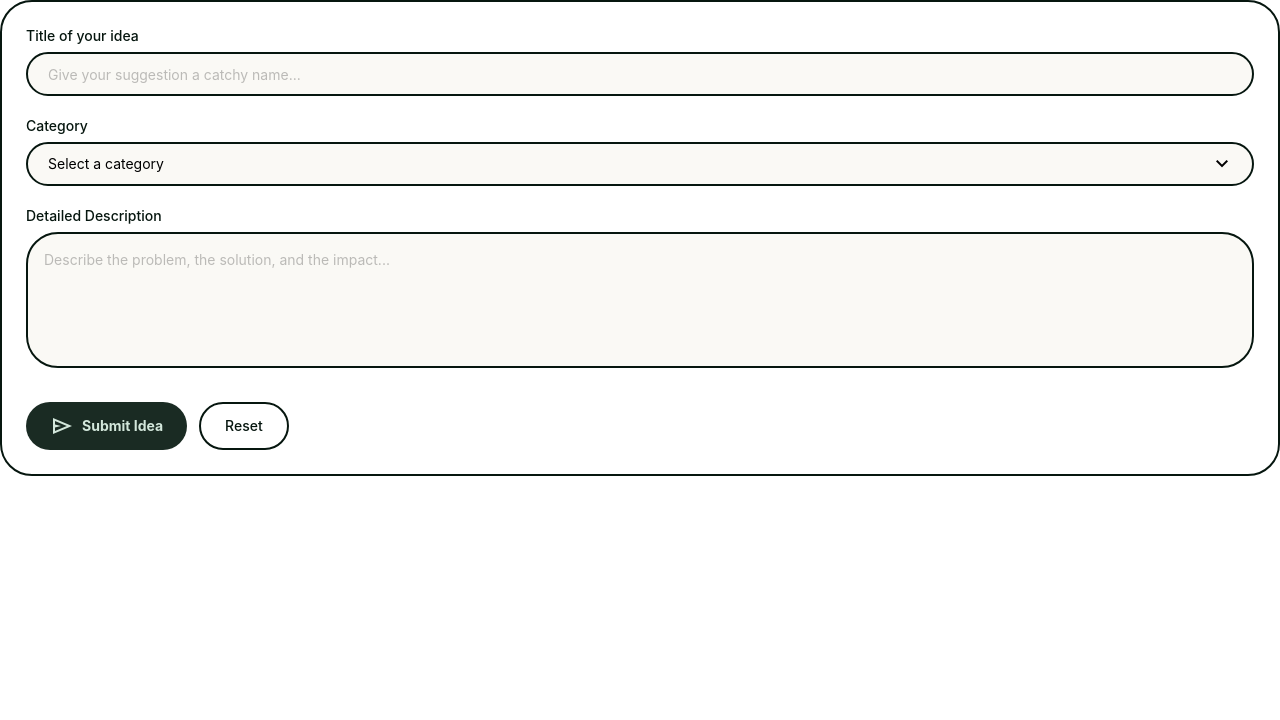
Test: SuggestForm › validates title min length
Type "AB" into the field with id "suggest-title" at (640, 74), box [26,52,1254,96]
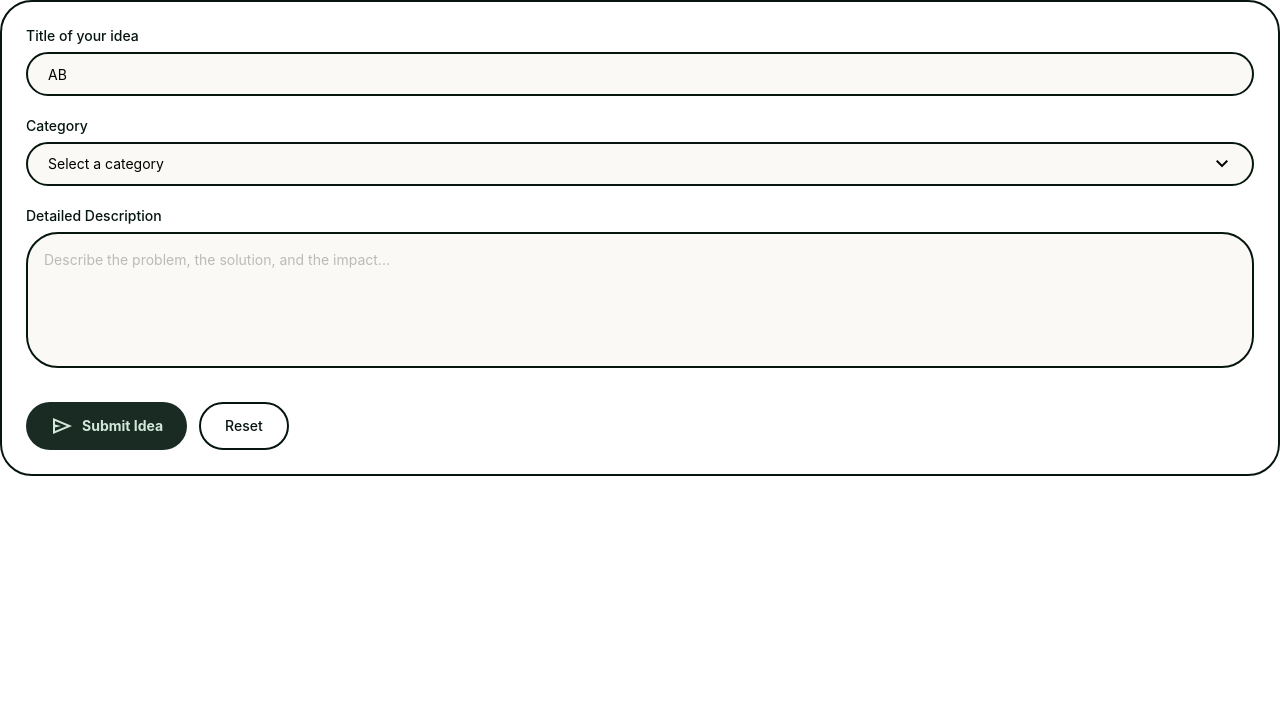
Type "This is a valid description that is long enough" into the text box with id "suggest-description" at (640, 300), box [26,232,1254,368]
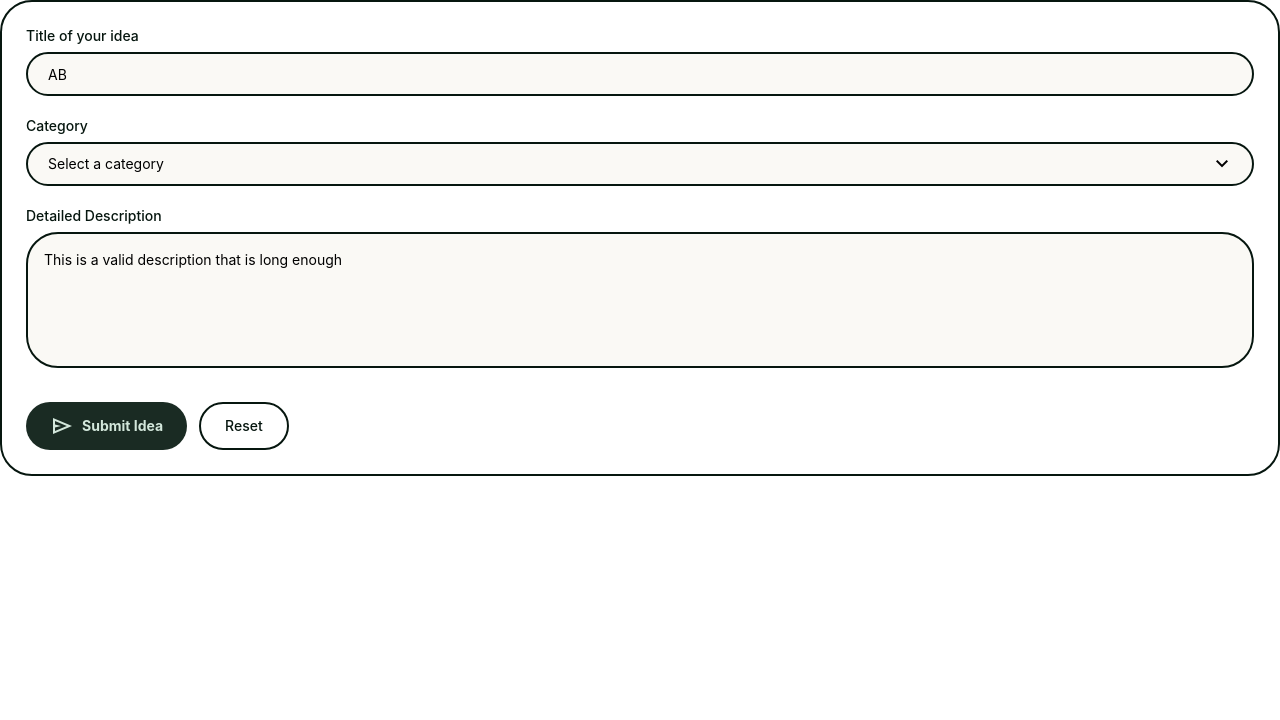
Select "Technology" in the dropdown with id "suggest-category" at (640, 164), box [26,142,1254,186]
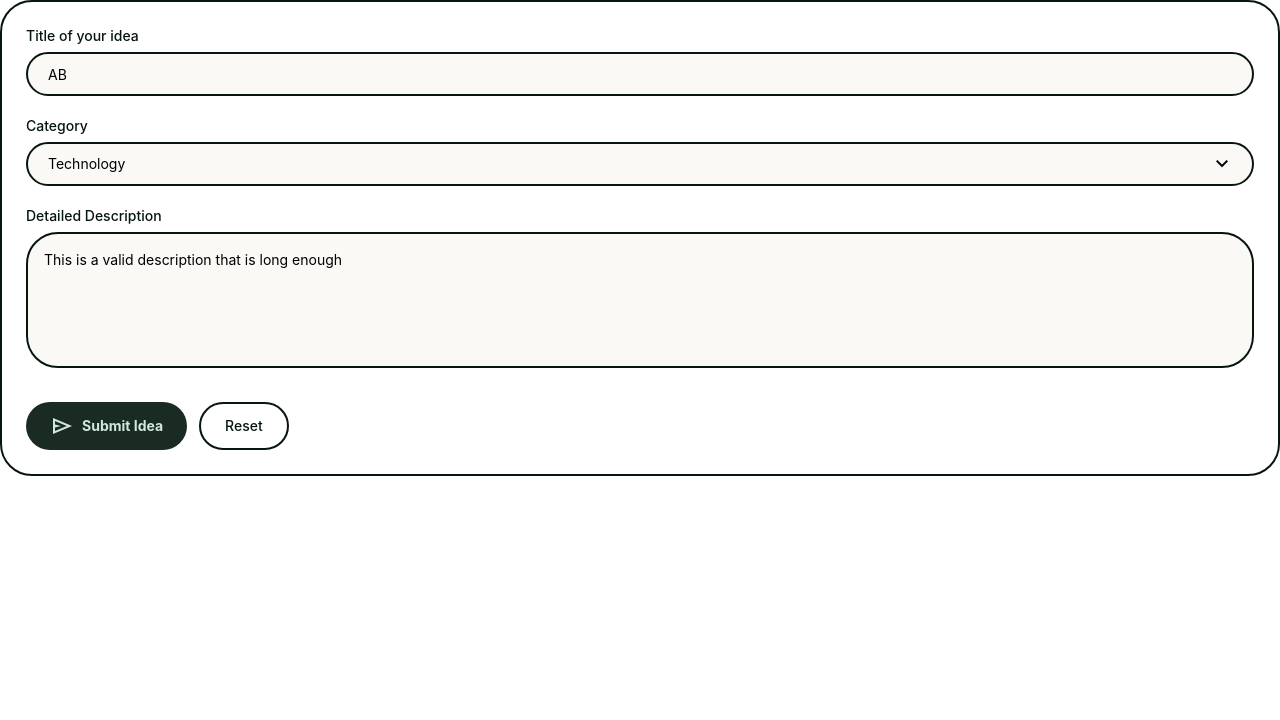
Submit the form, box [26,26,1254,450]
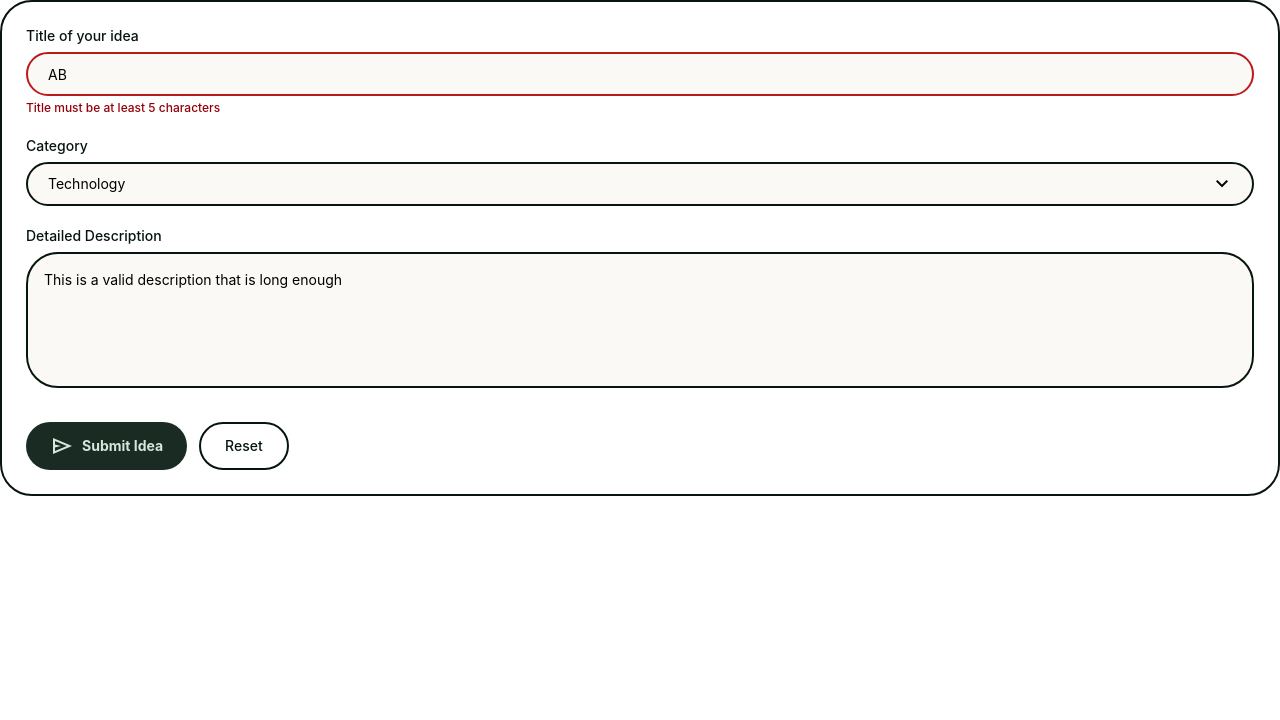
Check: the text "Title must be at least 5 characters" is shown, box [26,100,220,115]
